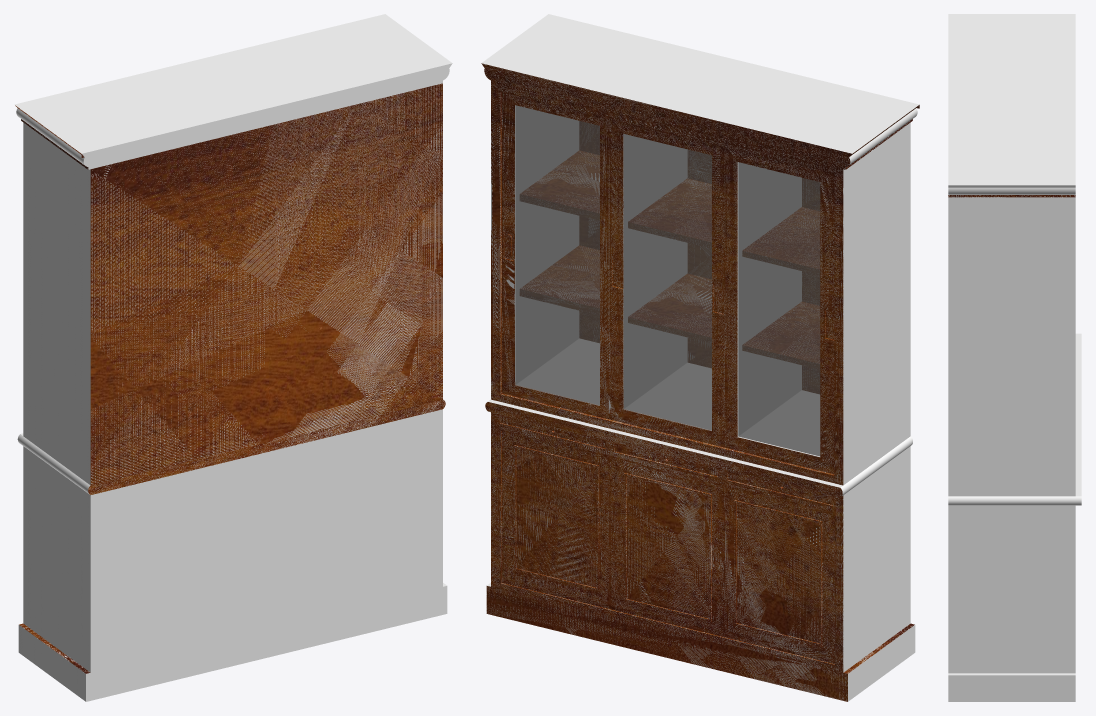
3 views of the same model, side by side, from view 1: azimuth 30°, elevation 25°; view 2: azimuth 150°, elevation 25°; view 3: azimuth 270°, elevation 25° (orthographic). The views are drawn at different scales.
Parts seen in each view (by area): view 1: mesh1_mesh1-geometry; view 2: mesh1_mesh1-geometry; view 3: mesh1_mesh1-geometry.
Boxes of the visible parts, left/top/right/bottom form: mesh1_mesh1-geometry: left=14, top=14, right=452, bottom=701; mesh1_mesh1-geometry: left=481, top=14, right=919, bottom=701; mesh1_mesh1-geometry: left=948, top=14, right=1081, bottom=701.
Size of the model in its own units: 0.5672 by 0.8022 by 0.1864.
